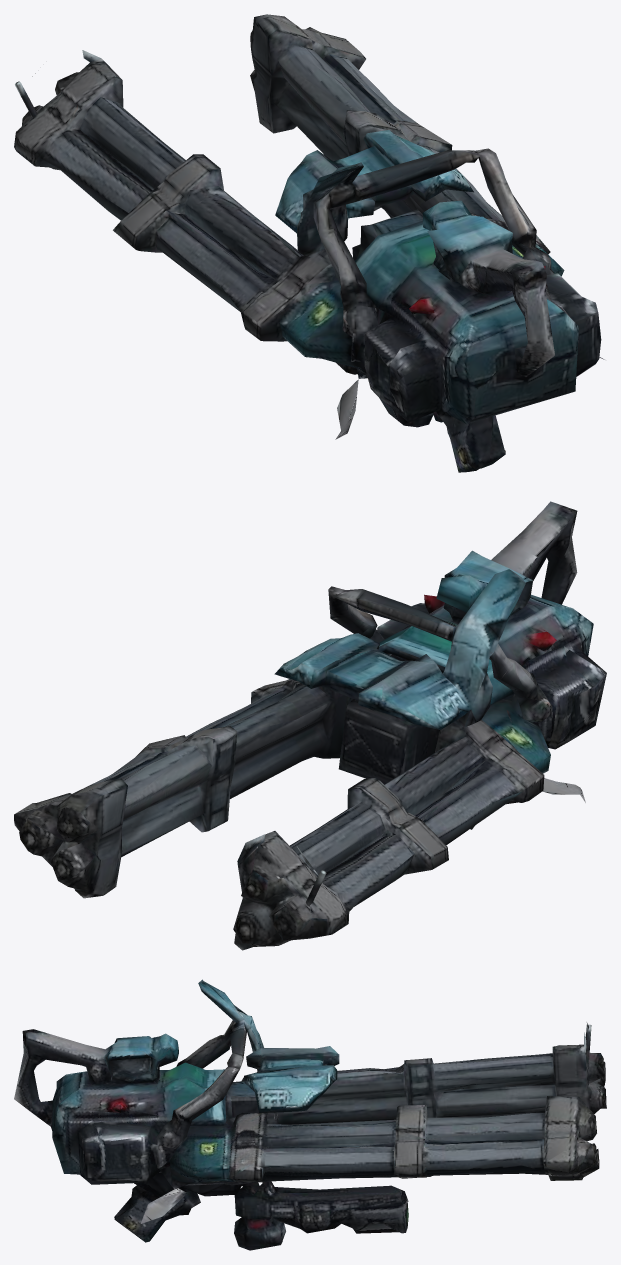
File: wpn_teal_gatling.glb
The picture shows the model from 3 angles, top to bottom: view 1: azimuth 30°, elevation 25°; view 2: azimuth 150°, elevation 25°; view 3: azimuth 270°, elevation 25°; orthographic projection. The views are drawn at different scales.
Parts seen in each view (by area): view 1: wpn_teal_gatling; view 2: wpn_teal_gatling; view 3: wpn_teal_gatling.
Part boxes in pixels (<box>): wpn_teal_gatling: <box>14,14,604,472</box>; wpn_teal_gatling: <box>14,501,606,950</box>; wpn_teal_gatling: <box>14,979,606,1250</box>.
Size of the model in its own units: 0.3119 by 0.282 by 0.6519.
Materials: 1 (1 with a texture image).
